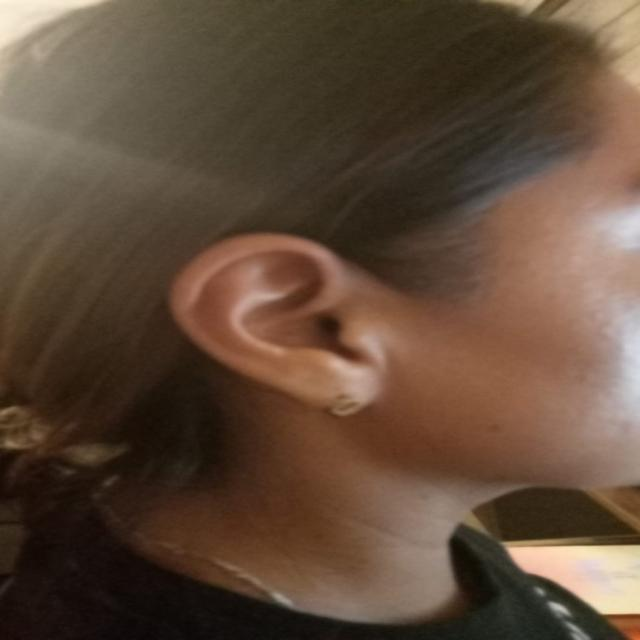ear: (169, 234, 385, 408)
